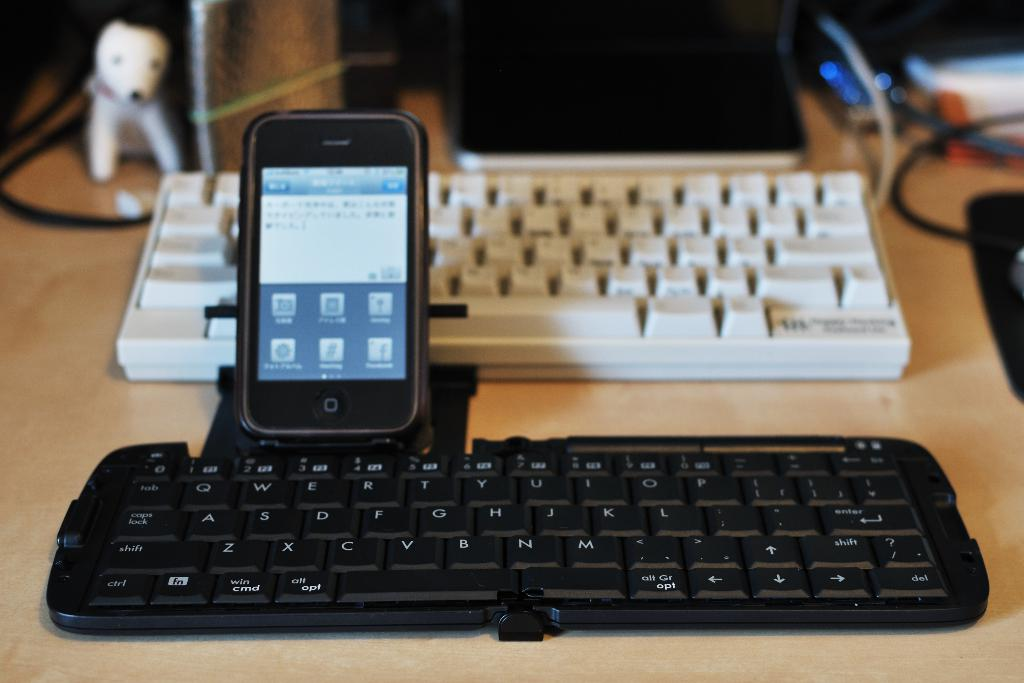Mobile-phone: (230, 101, 428, 443)
